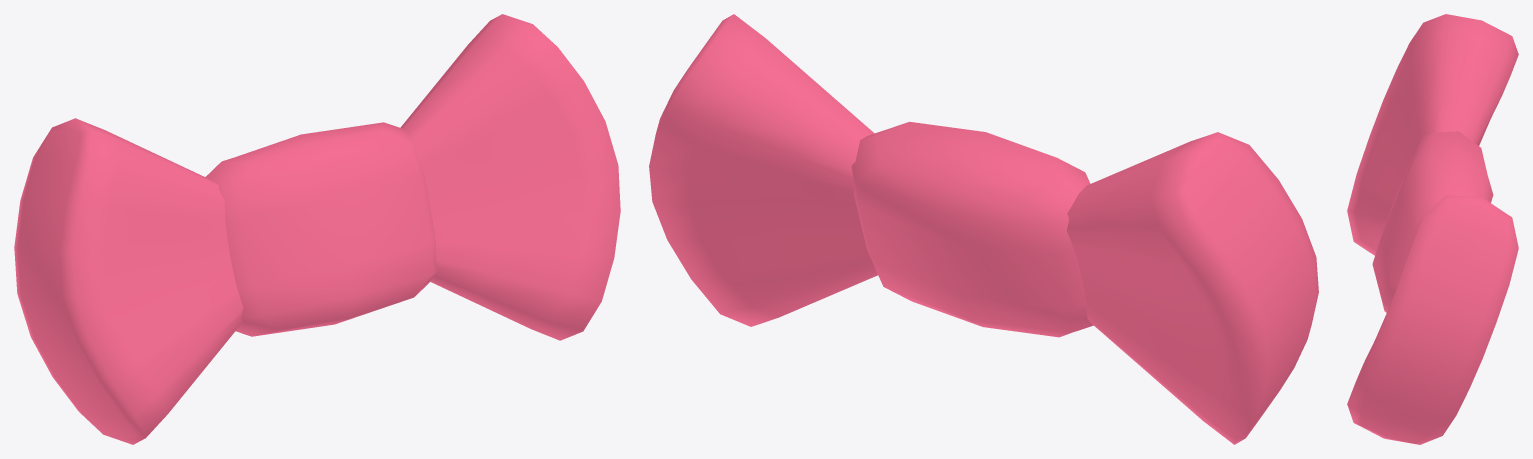
Rendered from accessory-bow.glb.
The picture shows the model from 3 angles, left to right: view 1: azimuth 30°, elevation 25°; view 2: azimuth 150°, elevation 25°; view 3: azimuth 270°, elevation 25°; orthographic projection. The views are drawn at different scales.
Parts seen in each view (by area): view 1: accessory__Cube_002__0; view 2: accessory__Cube_002__0; view 3: accessory__Cube_002__0.
Part boxes in pixels (x1,y1,x2,y2): accessory__Cube_002__0: (14,14,620,444); accessory__Cube_002__0: (649,14,1318,444); accessory__Cube_002__0: (1347,14,1518,444).
Bounding box in the file's own units: 0.5395 × 0.2749 × 0.1713.
